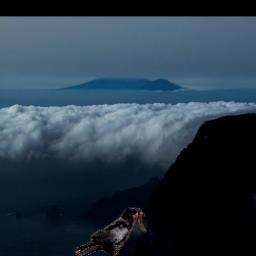Crow: (75, 205, 148, 256)
